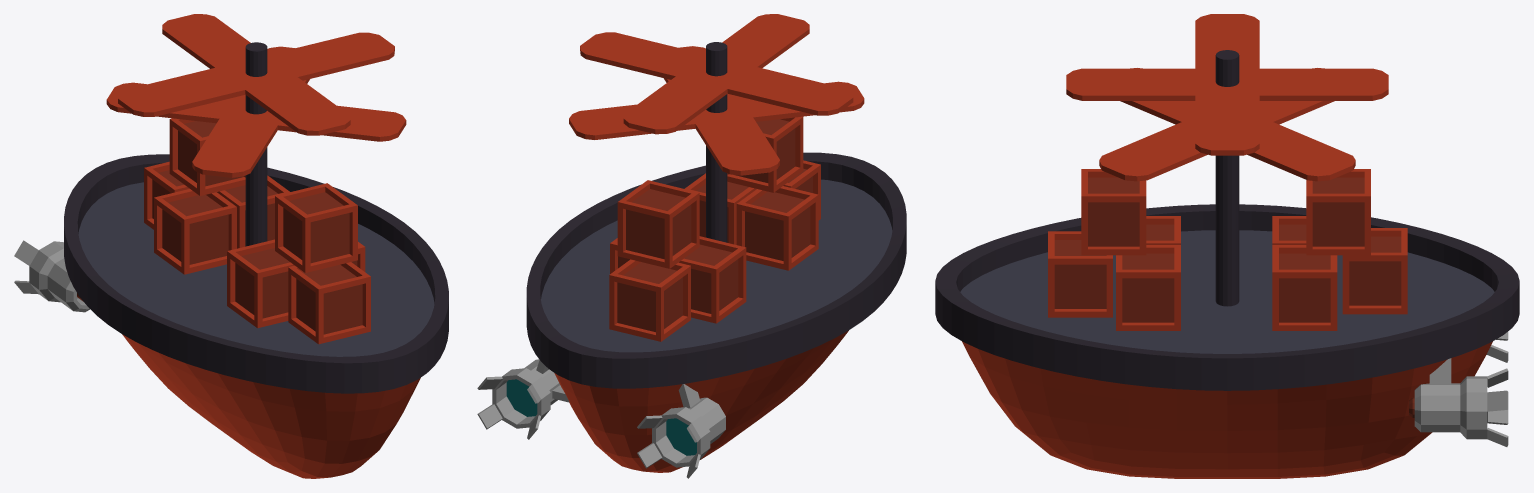
Rendered from Kamikaze_v01.fbx.
3 renders of one model, left to right at view 1: azimuth 30°, elevation 25°; view 2: azimuth 150°, elevation 25°; view 3: azimuth 270°, elevation 25°, orthographic. The views are drawn at different scales.
Visible parts, largest first — view 1: Kamikaze_Ship_01, Kamikaze_Prop_v01; view 2: Kamikaze_Ship_01, Kamikaze_Prop_v01; view 3: Kamikaze_Ship_01, Kamikaze_Prop_v01.
Boxes of the visible parts, <box> form: Kamikaze_Ship_01: <box>14,42,448,478</box>; Kamikaze_Prop_v01: <box>106,14,406,177</box>; Kamikaze_Ship_01: <box>477,42,906,478</box>; Kamikaze_Prop_v01: <box>569,14,864,175</box>; Kamikaze_Ship_01: <box>935,50,1519,478</box>; Kamikaze_Prop_v01: <box>1066,14,1388,181</box>.
Bounding box in the file's own units: 2.76 × 3.48 × 4.42.
